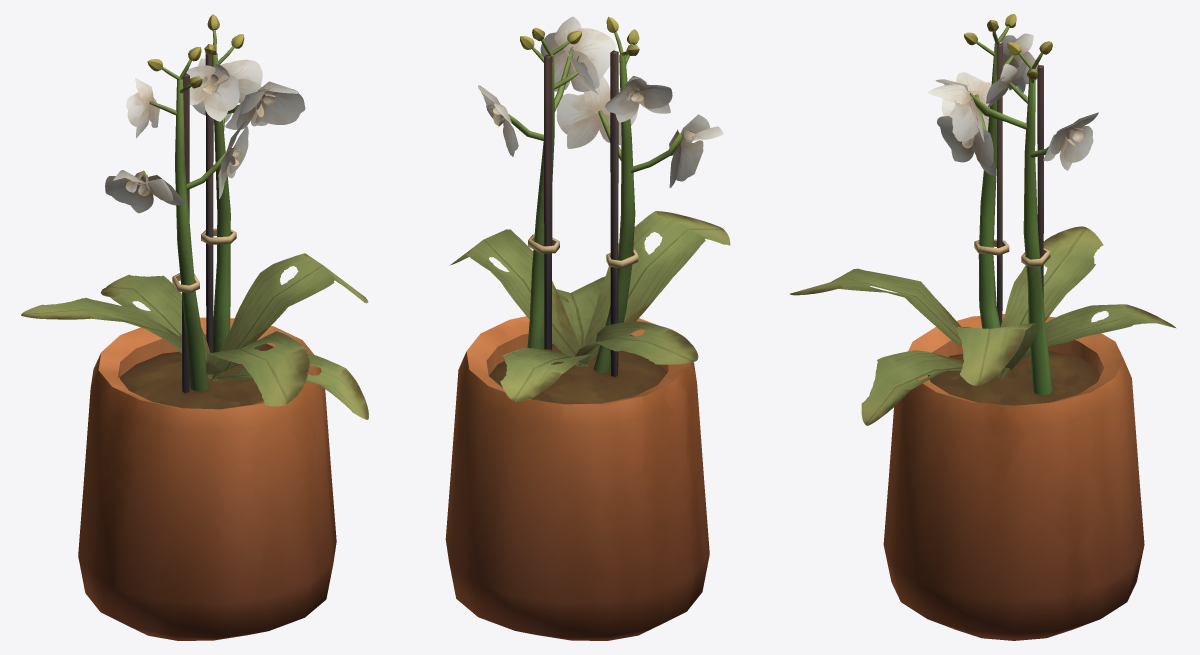
File: MDL_OrchidLeafCheck.fbx
3 views of the same model, side by side, from view 1: azimuth 30°, elevation 25°; view 2: azimuth 150°, elevation 25°; view 3: azimuth 270°, elevation 25° (orthographic). The views are drawn at different scales.
Visible parts, largest first — view 1: MDL_OrchidLeafCheck; view 2: MDL_OrchidLeafCheck; view 3: MDL_OrchidLeafCheck.
Boxes of the visible parts, x1,y1,x2,y2 form: MDL_OrchidLeafCheck: (21,14,368,640); MDL_OrchidLeafCheck: (445,16,730,640); MDL_OrchidLeafCheck: (790,14,1176,640).
Size of the model in its own units: 45.55 by 80.75 by 51.72.
